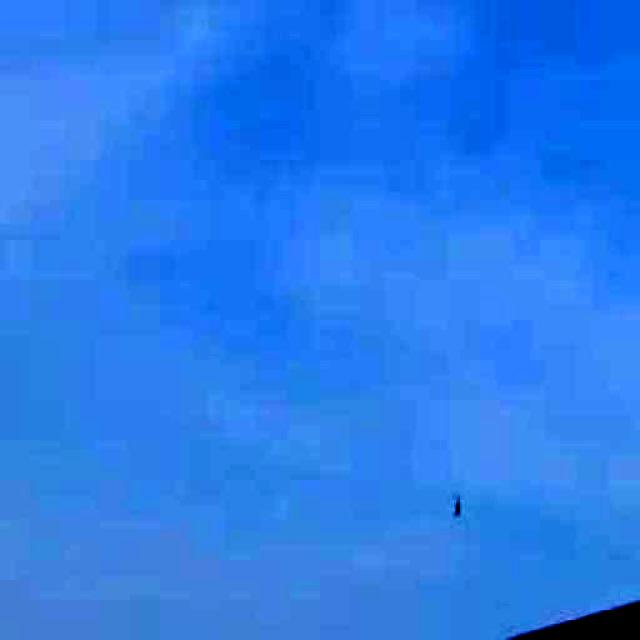drone: (430, 472, 484, 532)
